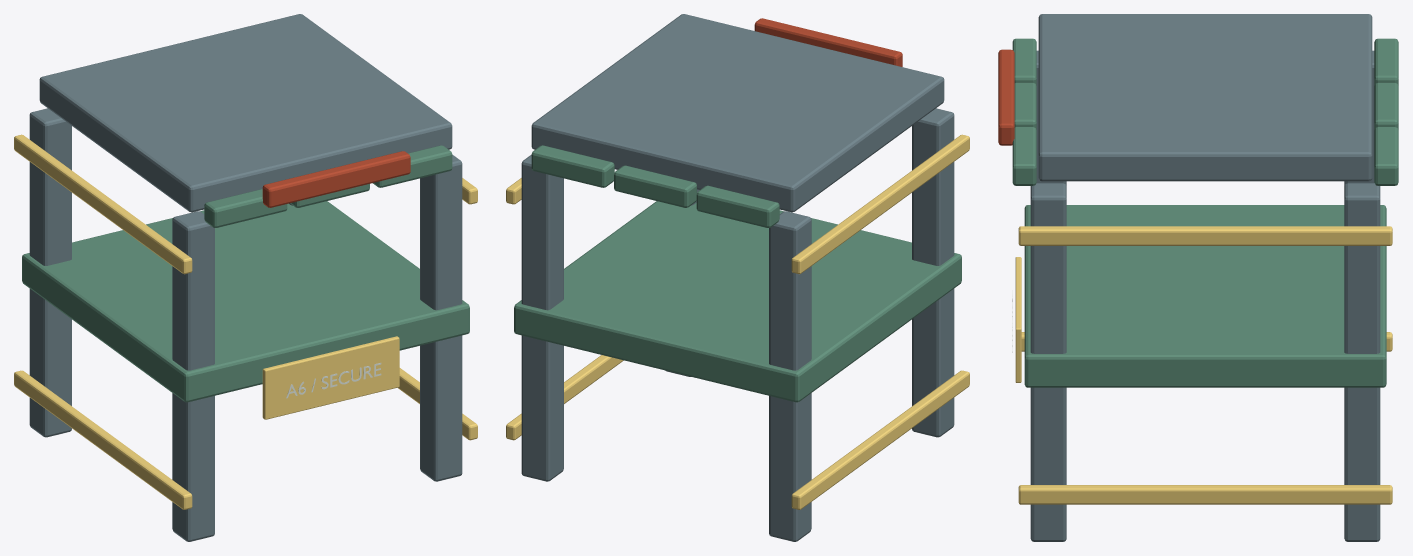
File: secure_case_d0.glb
3 views of the same model, side by side, from view 1: azimuth 30°, elevation 25°; view 2: azimuth 150°, elevation 25°; view 3: azimuth 270°, elevation 25° (orthographic). The views are drawn at different scales.
Parts seen in each view (by area): view 1: Reinforced lid, Crate shell.003, Corner post.014, Corner post.012, Corner post.013, Identification placard.003, Vertical tie band.012, Vertical tie band.013, Lock bar, Lid slat.018, Lid slat.020, Vertical tie band.014 (+2 smaller); view 2: Reinforced lid, Crate shell.003, Corner post.015, Corner post.013, Corner post.012, Vertical tie band.012, Vertical tie band.013, Lid slat.021, Lid slat.023, Lid slat.022, Lock bar, Vertical tie band.014; view 3: Reinforced lid, Crate shell.003, Corner post.014, Corner post.015, Vertical tie band.015, Vertical tie band.014, Lock bar, Lid slat.023, Lid slat.020, Lid slat.021, Lid slat.022, Lid slat.018 (+4 smaller).
Boxes of the visible parts, box(x1,y1,x2,y2) form: Reinforced lid: box(39, 14, 452, 212); Crate shell.003: box(22, 201, 469, 402); Corner post.014: box(420, 154, 462, 481); Corner post.012: box(172, 211, 214, 541); Corner post.013: box(29, 108, 71, 437); Identification placard.003: box(262, 336, 399, 419); Vertical tie band.012: box(14, 370, 192, 509); Vertical tie band.013: box(14, 134, 192, 274); Lock bar: box(262, 151, 410, 207); Lid slat.018: box(204, 189, 287, 227); Lid slat.020: box(372, 145, 452, 187); Vertical tie band.014: box(397, 368, 477, 440); Reinforced lid: box(531, 14, 944, 212); Crate shell.003: box(514, 201, 961, 402); Corner post.015: box(521, 154, 563, 481); Corner post.013: box(769, 211, 811, 541); Corner post.012: box(912, 108, 954, 437); Vertical tie band.012: box(791, 370, 969, 509); Vertical tie band.013: box(791, 134, 969, 274); Lid slat.021: box(696, 185, 779, 227); Lid slat.023: box(531, 145, 614, 187); Lid slat.022: box(614, 165, 696, 207); Lock bar: box(754, 18, 902, 66); Vertical tie band.014: box(506, 355, 623, 440); Reinforced lid: box(1038, 14, 1372, 181); Crate shell.003: box(1024, 205, 1386, 387); Corner post.014: box(1030, 183, 1066, 541); Corner post.015: box(1344, 183, 1380, 541); Vertical tie band.015: box(1018, 226, 1392, 245); Vertical tie band.014: box(1018, 485, 1392, 504); Lock bar: box(998, 49, 1014, 145); Lid slat.023: box(1374, 127, 1398, 185); Lid slat.020: box(1012, 127, 1036, 185); Lid slat.021: box(1374, 38, 1398, 85); Lid slat.022: box(1374, 82, 1398, 129); Lid slat.018: box(1012, 38, 1036, 85).
Size of the model in its own units: 1.86 by 2.12 by 1.99.
